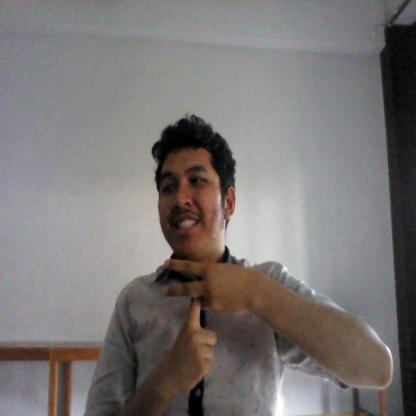F: (160, 258, 250, 392)
